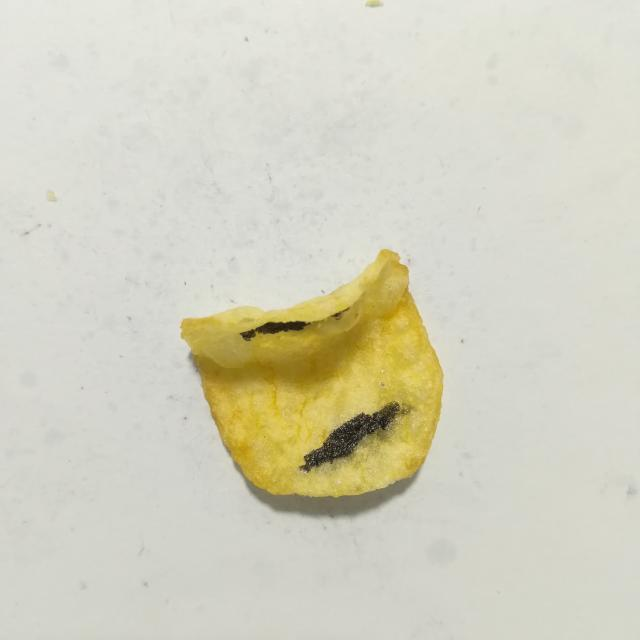chip: (181, 250, 443, 497)
damaged: (299, 401, 407, 472), (240, 321, 311, 341)
semi-damaged: (313, 403, 415, 471), (332, 308, 349, 319)
